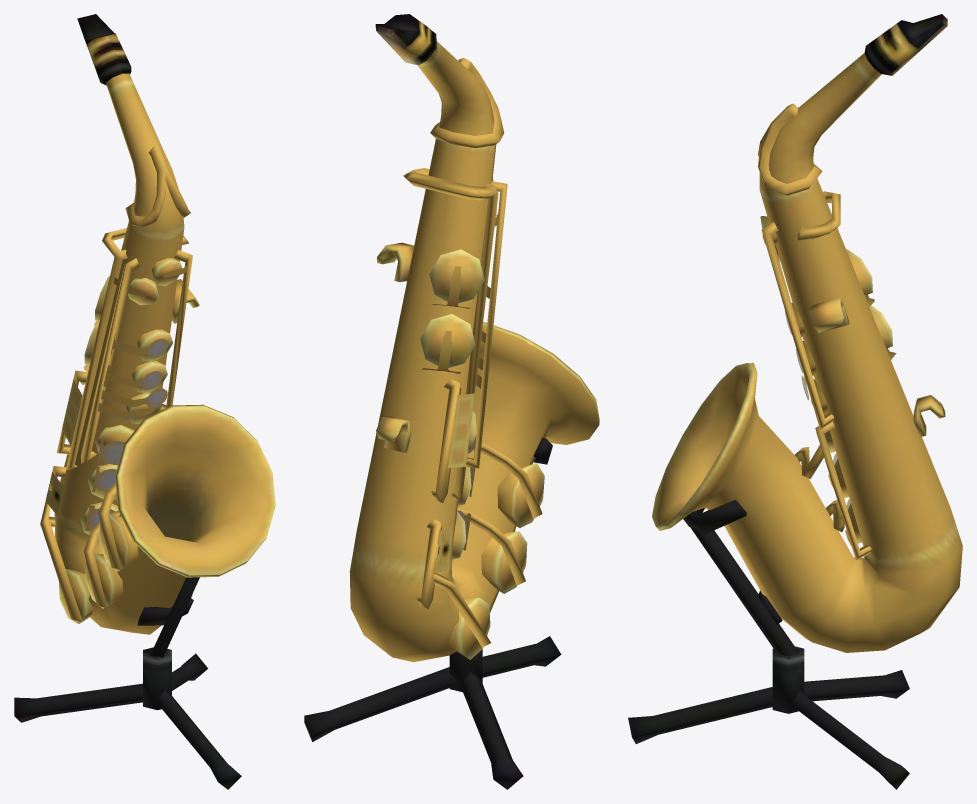
3 views of the same model, side by side, from view 1: azimuth 30°, elevation 25°; view 2: azimuth 150°, elevation 25°; view 3: azimuth 270°, elevation 25° (orthographic). The views are drawn at different scales.
Bounding box in the file's own units: 3.51 × 11.57 × 4.84.
Materials: 1 (1 with a texture image).
